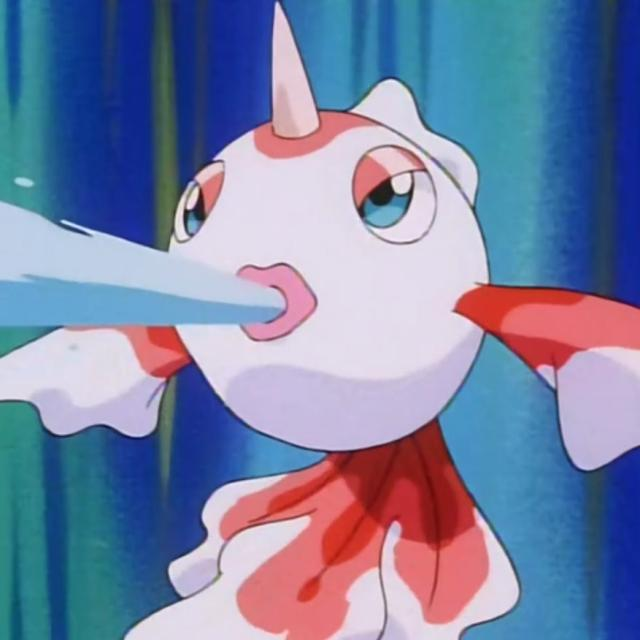Goldeen: (145, 42, 505, 498)
